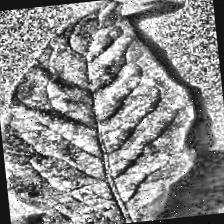spider mites: (0, 0, 204, 224)
